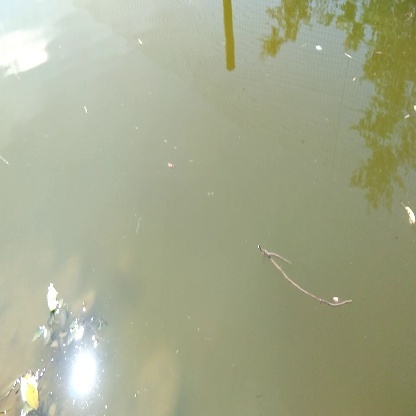branch: (252, 241, 361, 315)
